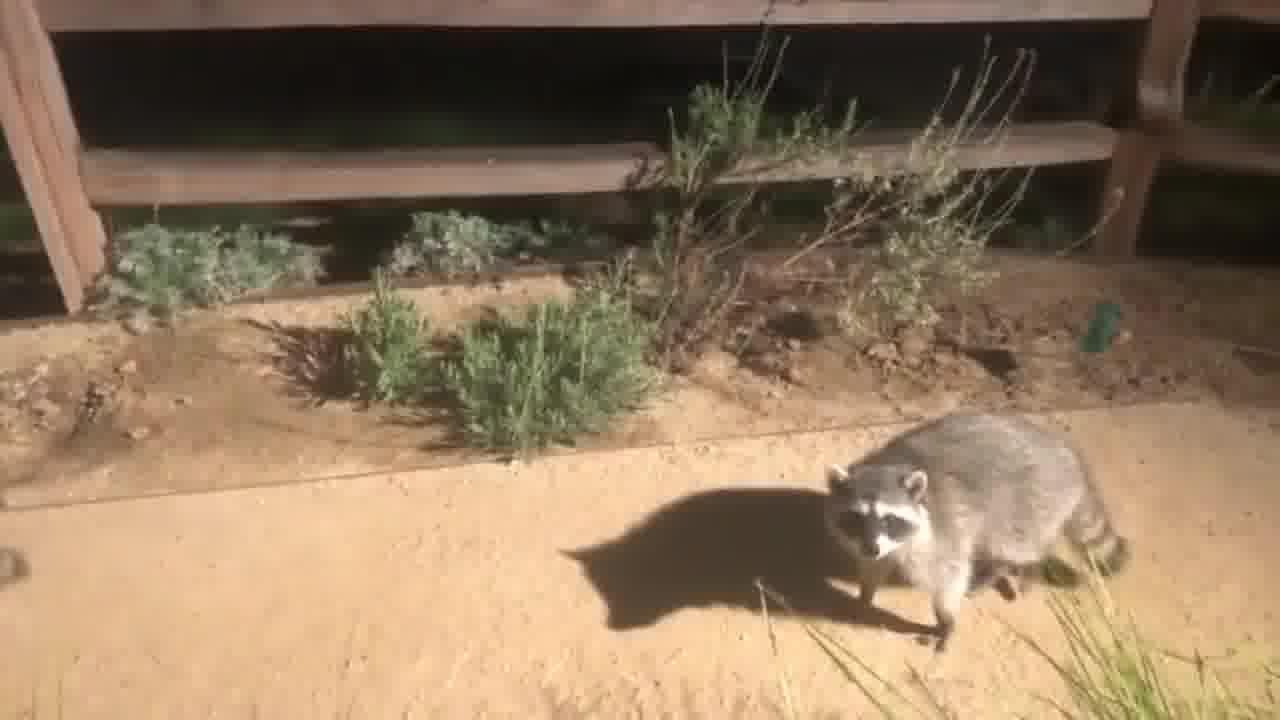raccoon: (819, 408, 1133, 656)
